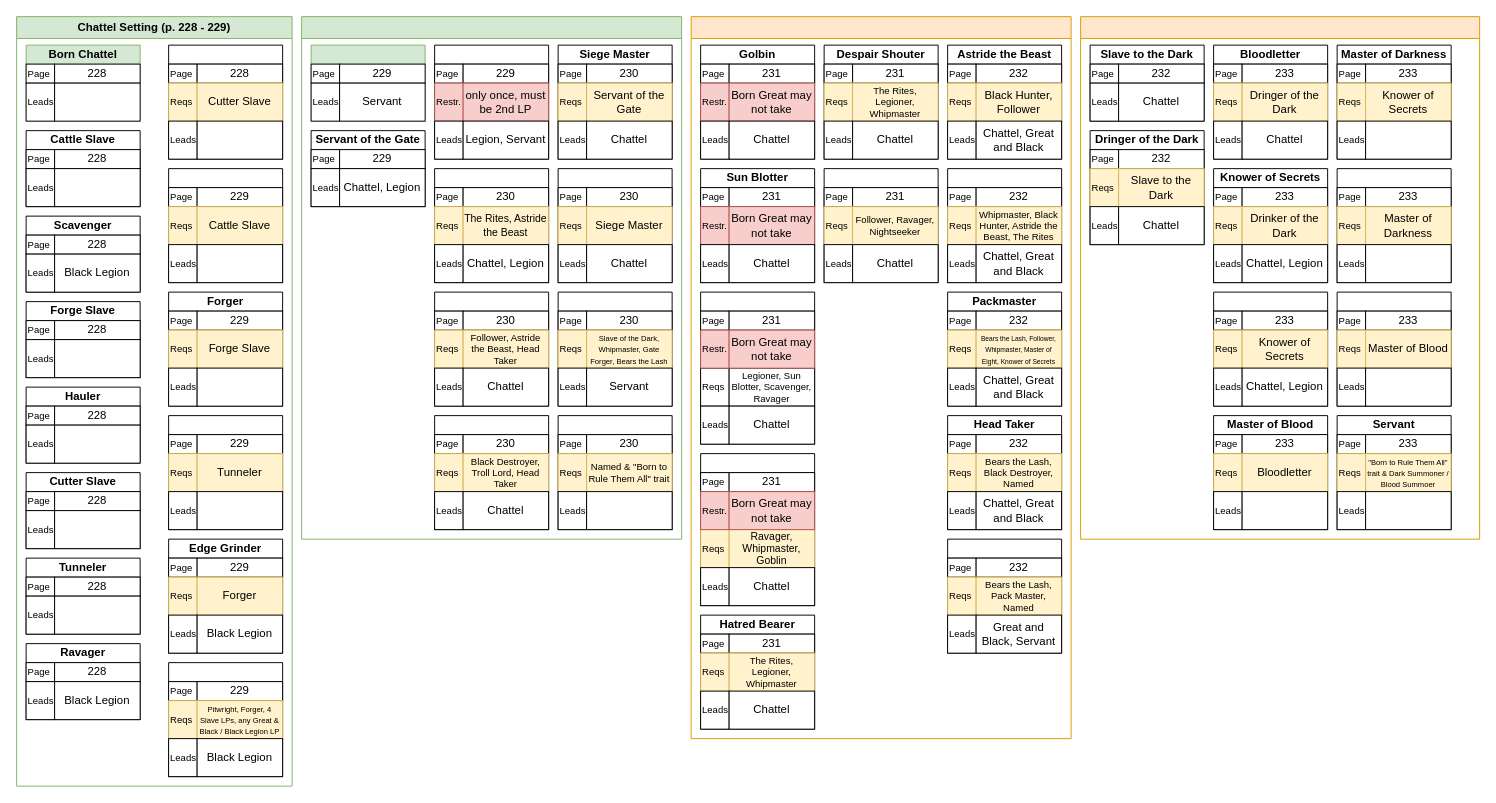
Image size: 1496x803. Some labels were removed from this diagram. Here are the shapes that lost their labels. From the top down, the box of each, then its label:
(54, 82, 140, 121): Black Legion, Servant
(168, 44, 283, 159): Woodcutter
(310, 44, 425, 121): Born Great
(434, 44, 549, 159): The Rites
(168, 168, 283, 283): Butcher
(434, 168, 549, 283): Follower
(557, 168, 672, 283): Gate Forger
(823, 168, 938, 283): Black Hunter
(947, 168, 1062, 283): Bears the Lash
(1336, 168, 1451, 283): Dark Summoner
(301, 16, 682, 539): Great & Black (p. 229 - 230)
(1080, 16, 1480, 539): Servant of the Dark Blood Subsetting (p. 232 - 233)
(434, 291, 549, 406): Black Destroyer
(557, 291, 672, 406): Whisperer
(700, 291, 815, 444): Nightseeker
(1213, 291, 1328, 406): Master of Eight
(1336, 291, 1451, 406): Blood Summoner
(690, 16, 1071, 739): Black LegionSubsetting (p. 231 - 232)
(168, 415, 283, 530): Pitwright
(434, 415, 549, 530): Named
(557, 415, 672, 530): Great One
(700, 453, 815, 606): Legioner
(947, 538, 1062, 653): Troll Lord
(168, 662, 283, 777): Whipmaster
